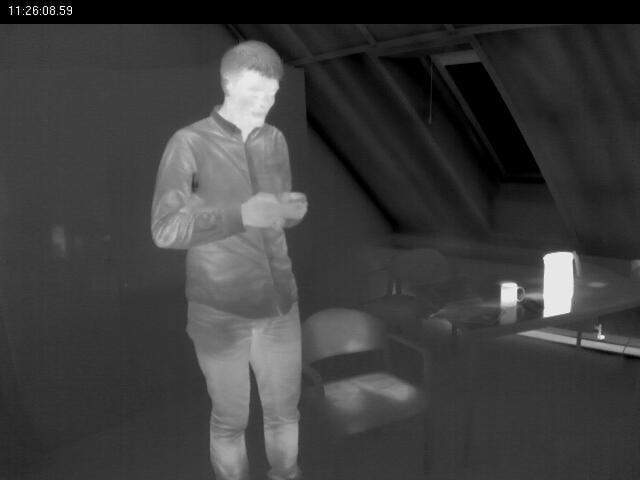person: (146, 34, 318, 480)
